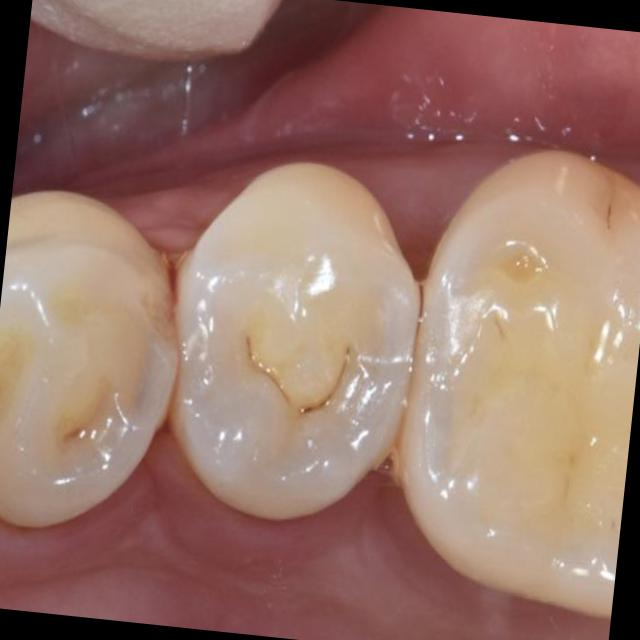Caries: (304, 407, 312, 412)
Tooth: (398, 150, 640, 620), (174, 163, 418, 522), (0, 188, 180, 528)
